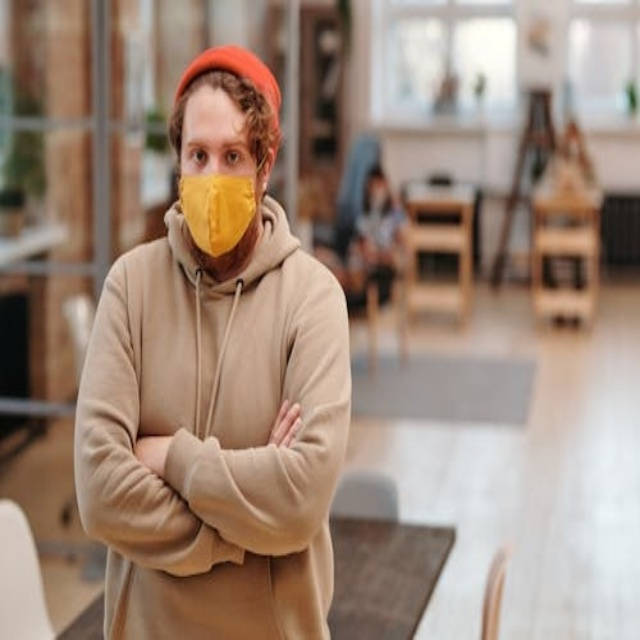Mascara: (178, 165, 262, 256)
Sin_gafas: (177, 133, 246, 169)
Sin_guantes: (269, 399, 302, 449)
